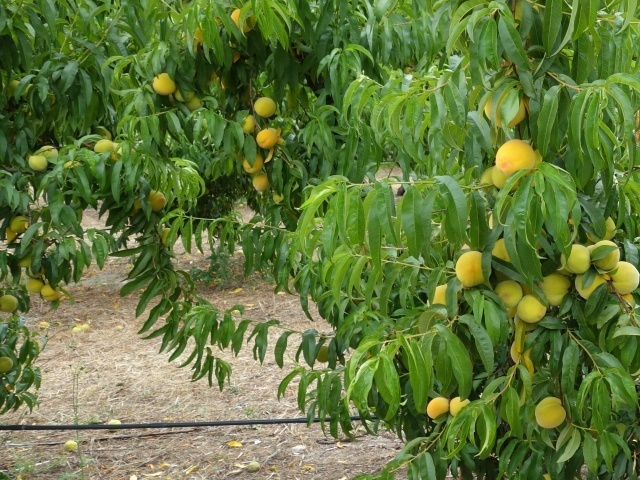peach: (480, 89, 530, 135), (492, 136, 541, 181), (453, 247, 495, 288), (531, 396, 573, 433), (604, 258, 640, 299), (478, 163, 518, 195), (539, 271, 575, 306), (591, 237, 626, 273), (557, 242, 594, 275), (516, 292, 550, 327), (492, 275, 528, 308), (569, 270, 607, 299), (148, 70, 179, 98), (421, 395, 452, 420), (254, 126, 283, 152), (252, 95, 281, 120), (444, 390, 474, 414), (248, 167, 274, 193), (241, 151, 268, 175), (143, 188, 171, 211), (92, 136, 118, 159), (8, 211, 31, 235), (1, 291, 22, 316), (35, 141, 61, 161), (26, 152, 48, 172), (40, 283, 62, 303), (24, 275, 46, 294), (1, 352, 17, 374)
